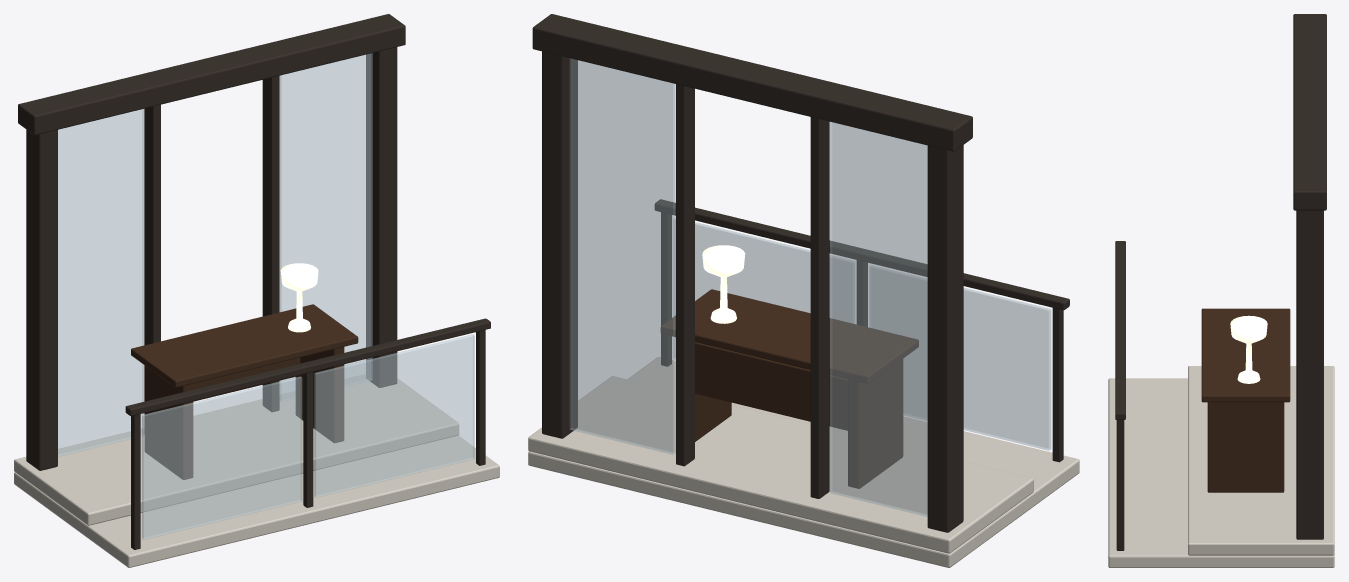
File: webtoon-modern-penthouse-terrace-datum-bay-v19.glb
3 renders of one model, left to right at view 1: azimuth 30°, elevation 25°; view 2: azimuth 150°, elevation 25°; view 3: azimuth 270°, elevation 25°, orthographic. The views are drawn at different scales.
Visible parts, largest first — view 1: ModernTerraceBalustradeGlass.001, ModernCurtainWallAndRailingFrame.001, ModernPenthouseTravertineDeck.001, ModernWalnutDatumDesk.001, ModernOpalDeskLamp.001; view 2: ModernTerraceBalustradeGlass.001, ModernCurtainWallAndRailingFrame.001, ModernPenthouseTravertineDeck.001, ModernWalnutDatumDesk.001, ModernOpalDeskLamp.001; view 3: ModernPenthouseTravertineDeck.001, ModernCurtainWallAndRailingFrame.001, ModernWalnutDatumDesk.001, ModernOpalDeskLamp.001.
Boxes of the visible parts, x1,y1,x2,y2 form: ModernTerraceBalustradeGlass.001: (58,53,474,539); ModernCurtainWallAndRailingFrame.001: (18,14,490,549); ModernPenthouseTravertineDeck.001: (14,374,499,567); ModernWalnutDatumDesk.001: (131,304,358,479); ModernOpalDeskLamp.001: (280,263,318,332); ModernTerraceBalustradeGlass.001: (569,58,1051,516); ModernCurtainWallAndRailingFrame.001: (532,14,1069,532); ModernPenthouseTravertineDeck.001: (528,357,1079,567); ModernWalnutDatumDesk.001: (660,289,918,488); ModernOpalDeskLamp.001: (702,245,745,323); ModernPenthouseTravertineDeck.001: (1108,366,1334,567); ModernCurtainWallAndRailingFrame.001: (1115,14,1326,550); ModernWalnutDatumDesk.001: (1201,308,1290,492); ModernOpalDeskLamp.001: (1230,315,1267,383).
Bounding box in the file's own units: 2.76 × 2.72 × 1.48.
